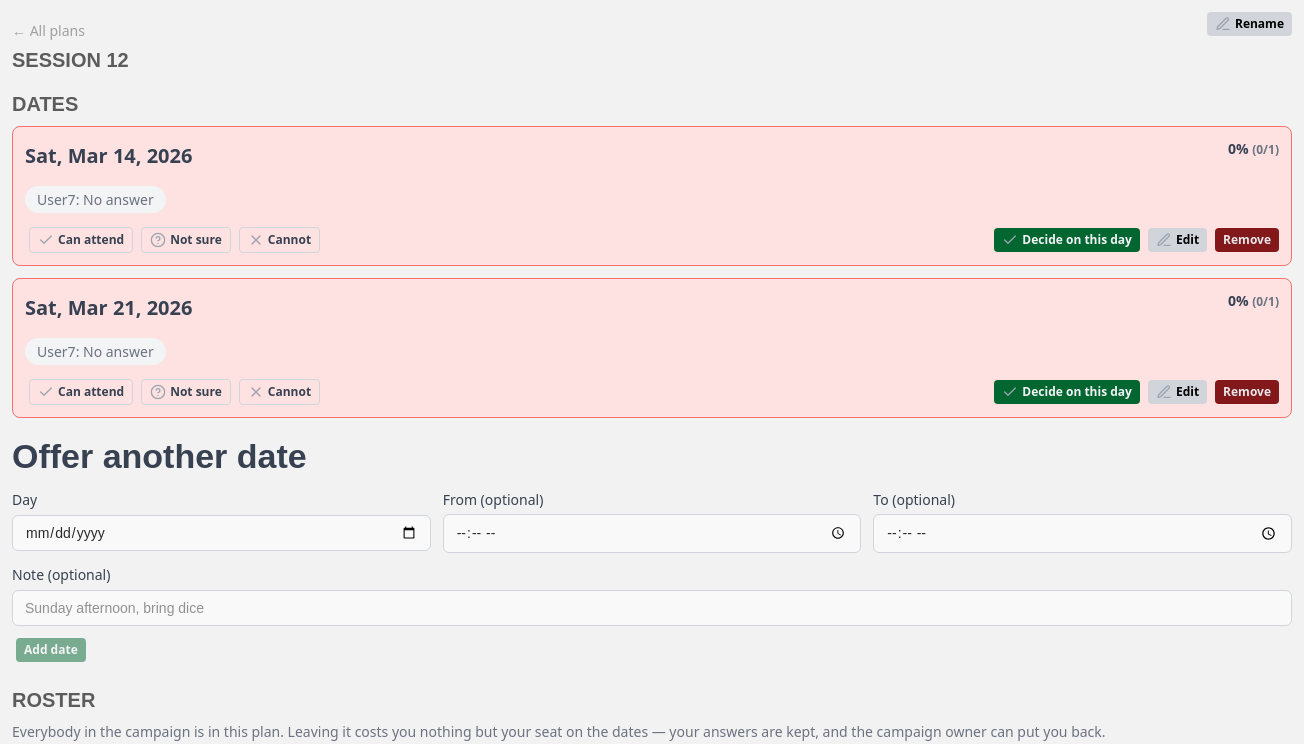
Test: PlannerPlanDetail — one date at a time › keeps every date collapsed until its own Edit is clicked
Expected: the number of "PlannerDateRow" components is 2, [12,126,1292,266]; [12,278,1292,418]
Click the 1st button "Edit": {"x": 1178, "y": 240} [1148,228,1207,252]
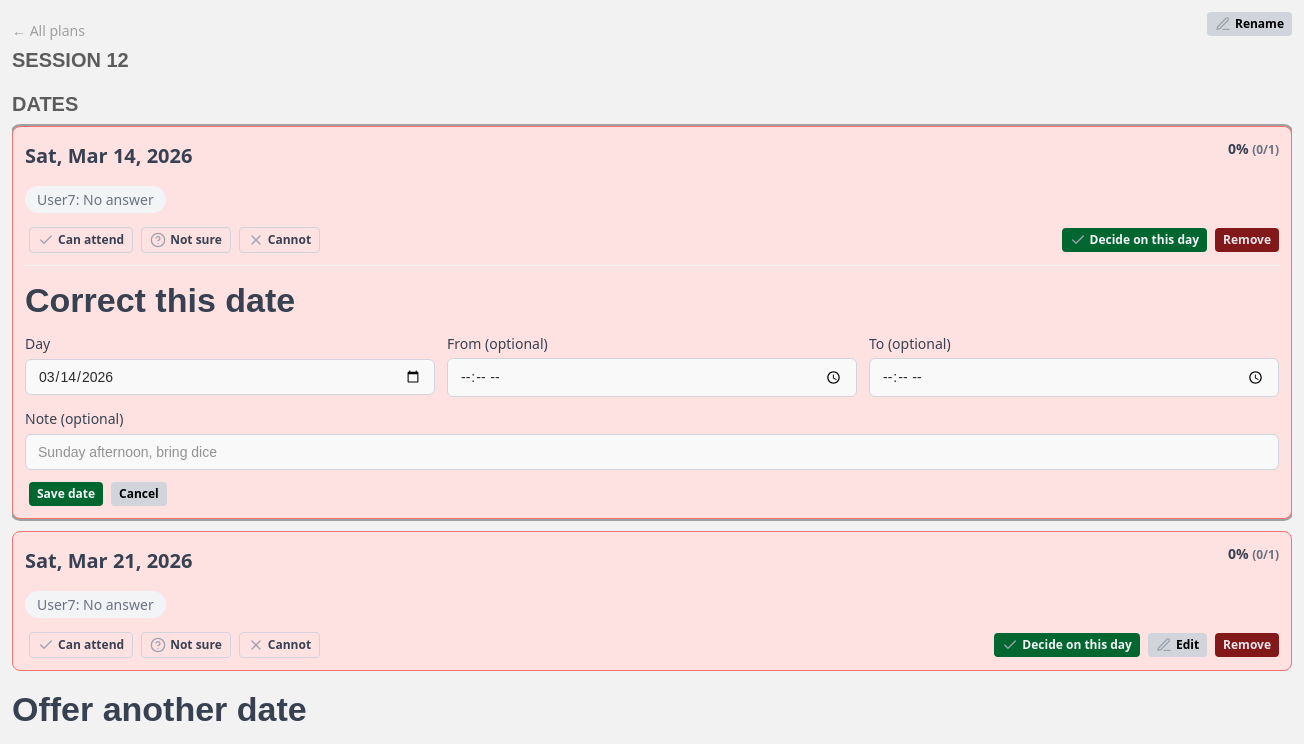
Expected: the form that starts with "Correct this date" is shown, [25,278,1279,506]
Expected: the element that starts with "Sat, Mar 14, 2026" shows "Correct this date", [25,281,295,319]
